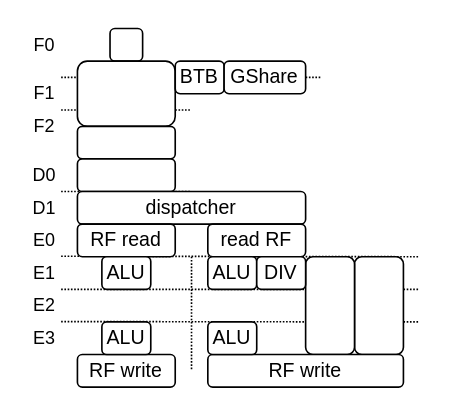
This 450x416 diagram has some shape labels left out. Here are the shapes that lost their labels. From the top down, the box of each, then its label:
(108, 27, 143, 61): PC
(76, 59, 175, 126): Fetch L1
(76, 125, 175, 159): aligner
(76, 157, 175, 192): decoder
(304, 255, 355, 355): MUL
(353, 255, 403, 355): LSU L1
